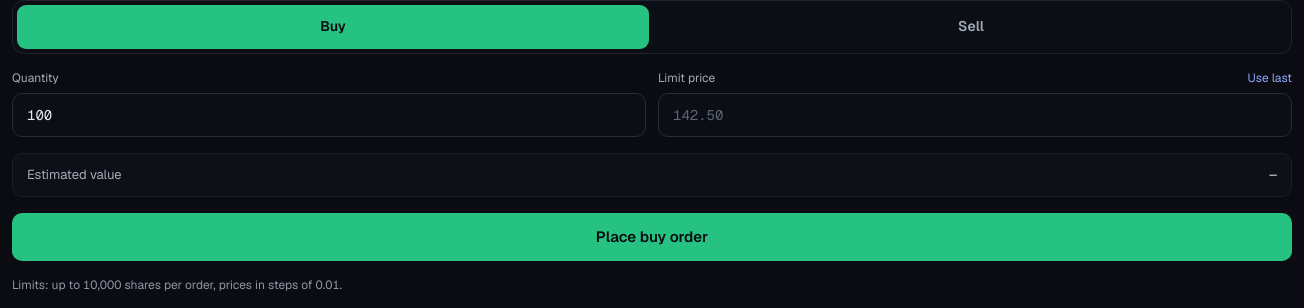
Test case: OrderTicket › entry › "Use last" fills in the last trade price
Click the button "Use last" at [1270, 78], box [1248,70,1292,87]
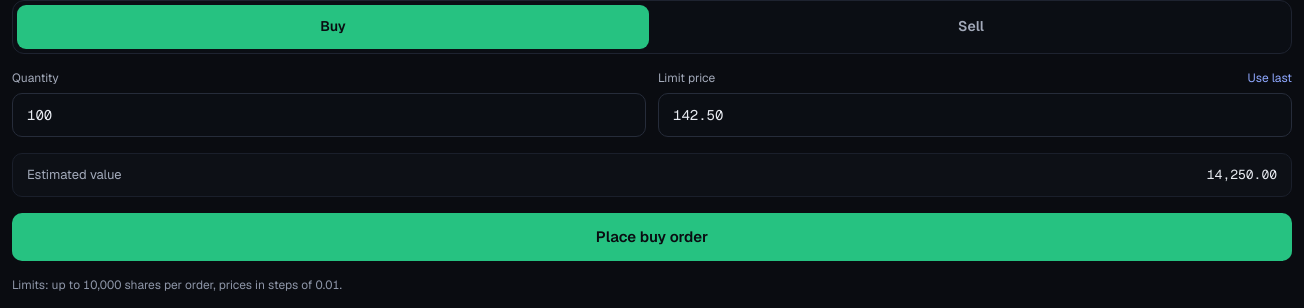
Now the field labelled "Limit price" holds "142.50", box [658,93,1292,137]
